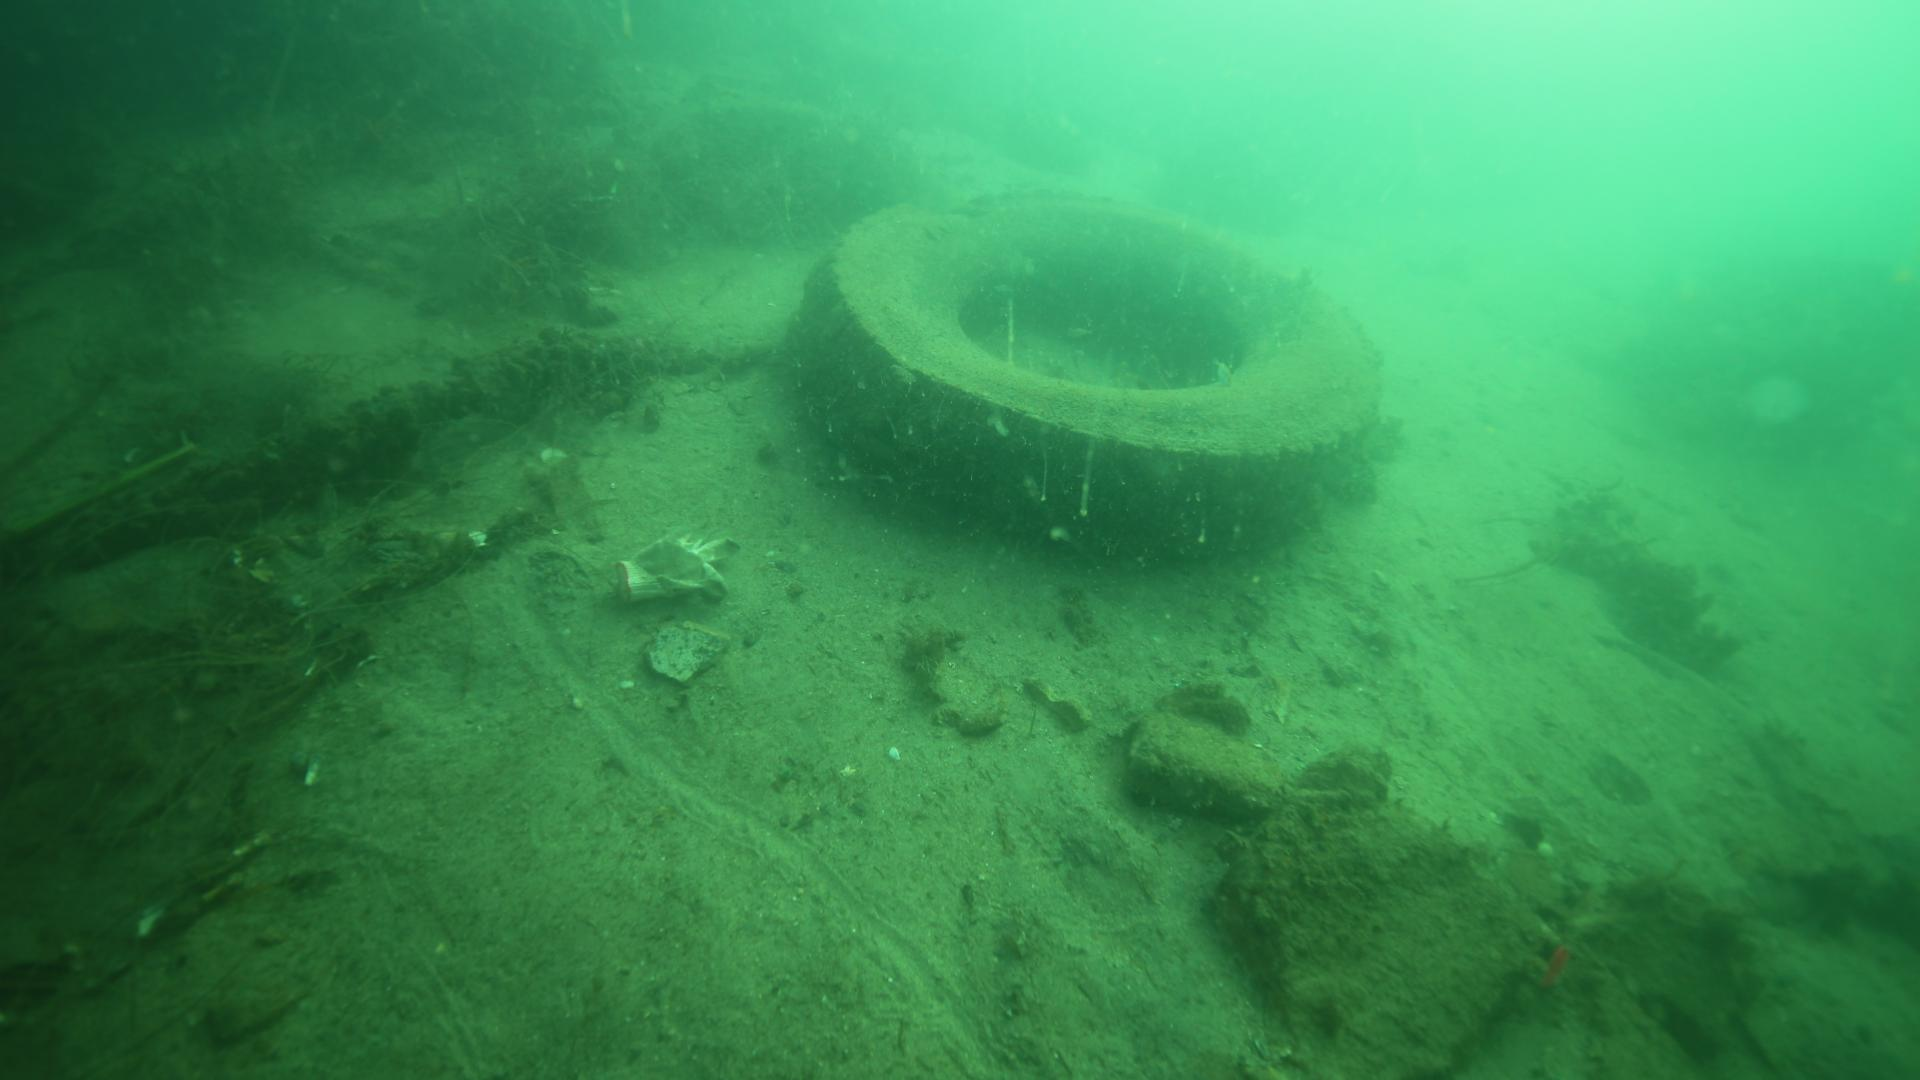tire: (791, 171, 1389, 564)
